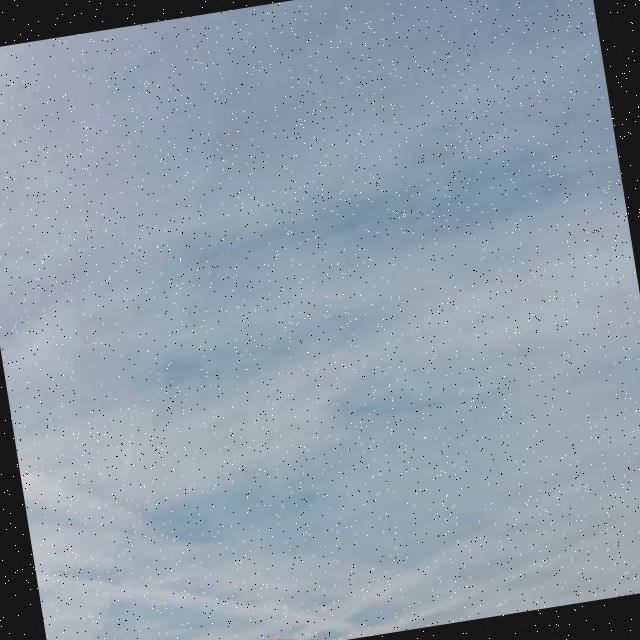Ct: (1, 1, 640, 602)
